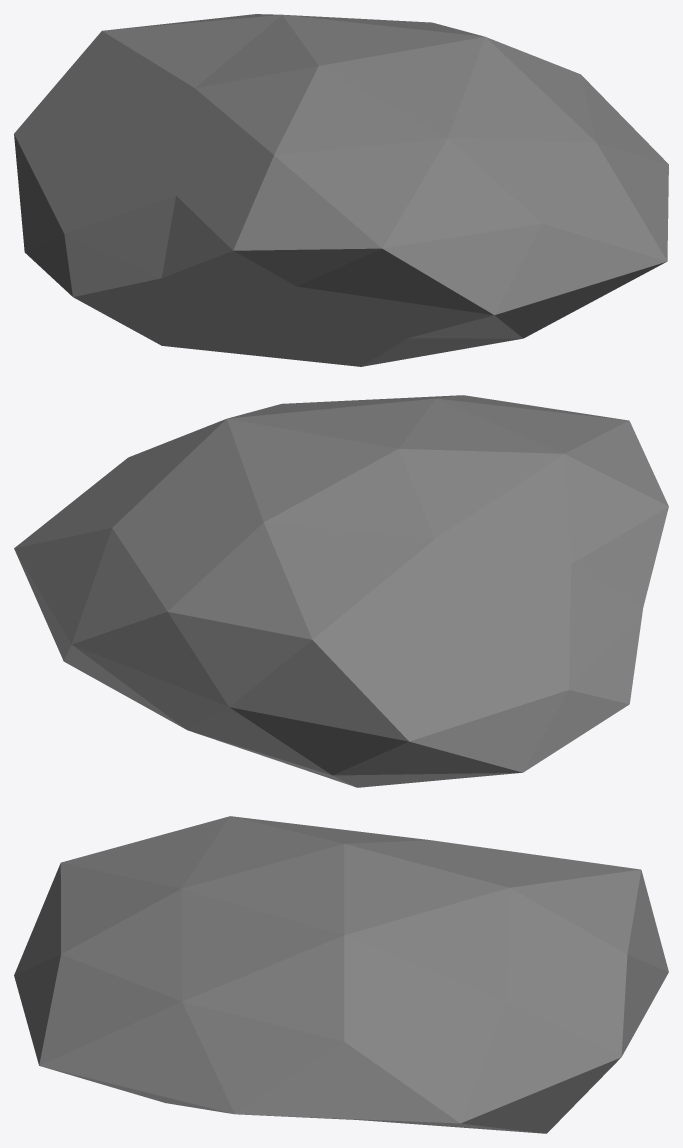
Rendered from rock-m-depleted.glb.
3 views of the same model, one above another, from view 1: azimuth 30°, elevation 25°; view 2: azimuth 150°, elevation 25°; view 3: azimuth 270°, elevation 25° (orthographic). The views are drawn at different scales.
Parts seen in each view (by area): view 1: rock-m-depleted; view 2: rock-m-depleted; view 3: rock-m-depleted.
Boxes of the visible parts, x1=… form: rock-m-depleted: x1=14, y1=14, x2=668, y2=366; rock-m-depleted: x1=14, y1=395, x2=668, y2=787; rock-m-depleted: x1=14, y1=816, x2=668, y2=1133.
Size of the model in its own units: 1.72 by 0.7491 by 1.8.
1 material, 1 textured.
